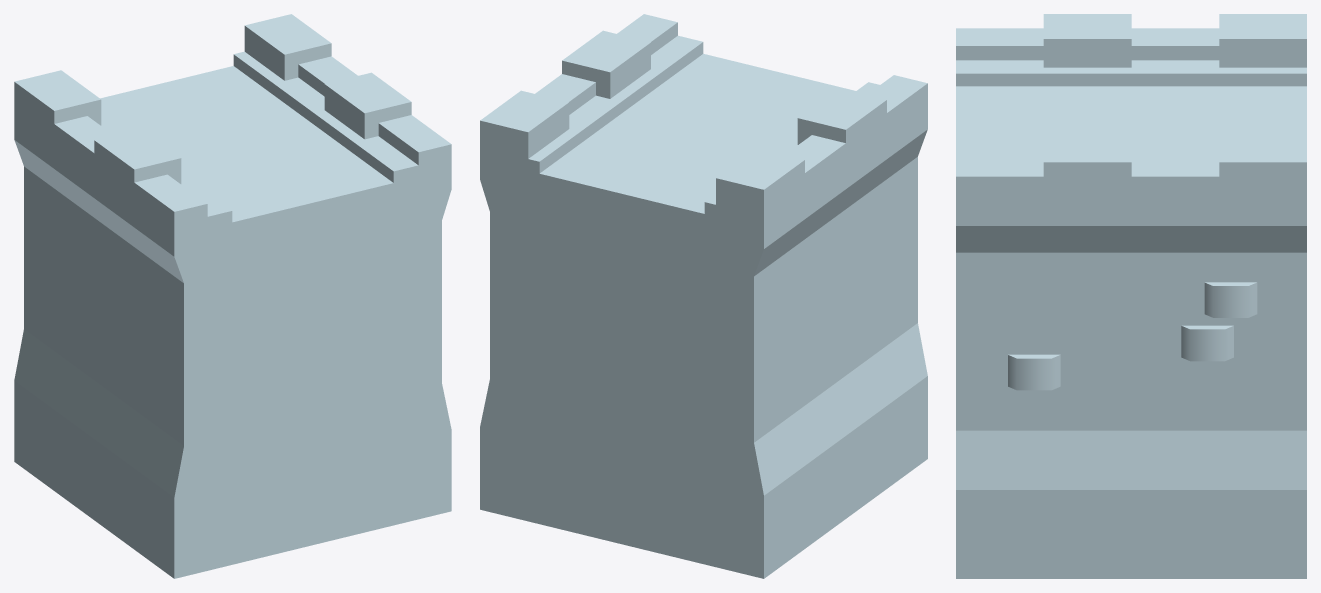
Rendered from rempart-glace-mur.glb.
The picture shows the model from 3 angles, left to right: view 1: azimuth 30°, elevation 25°; view 2: azimuth 150°, elevation 25°; view 3: azimuth 270°, elevation 25°; orthographic projection. The views are drawn at different scales.
Parts seen in each view (by area): view 1: wall; view 2: wall; view 3: wall.
Boxes of the visible parts, x1,y1,x2,y2 form: wall: (14,14,451,578); wall: (480,14,927,578); wall: (956,14,1306,578).
Bounding box in the file's own units: 8 × 10.48 × 8.
